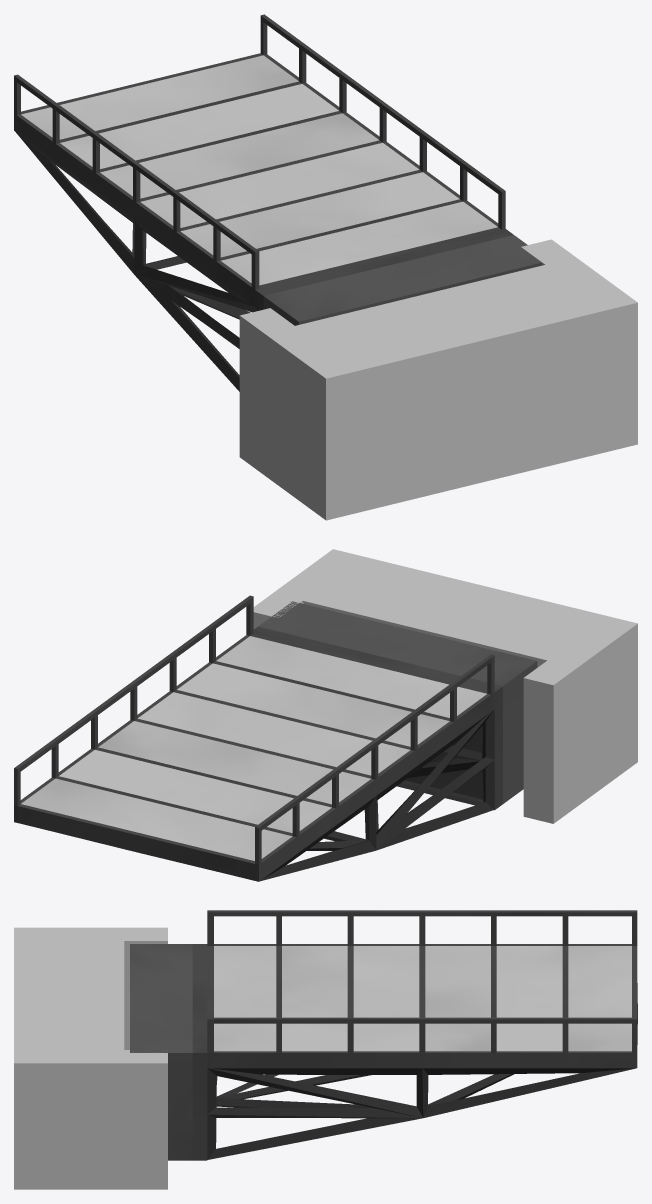
Rendered from SM_Bridge.fbx.
The picture shows the model from 3 angles, top to bottom: view 1: azimuth 30°, elevation 25°; view 2: azimuth 150°, elevation 25°; view 3: azimuth 270°, elevation 25°; orthographic projection. The views are drawn at different scales.
Parts seen in each view (by area): view 1: SM_Bridge, SM_BridgeStartEnd; view 2: SM_Bridge, SM_BridgeStartEnd; view 3: SM_Bridge, SM_BridgeStartEnd.
Boxes of the visible parts, left/top/right/bottom form: SM_Bridge: left=14, top=14, right=542, bottom=391; SM_BridgeStartEnd: left=239, top=239, right=637, bottom=520; SM_Bridge: left=14, top=595, right=537, bottom=881; SM_BridgeStartEnd: left=253, top=549, right=637, bottom=823; SM_Bridge: left=130, top=910, right=637, bottom=1160; SM_BridgeStartEnd: left=14, top=927, right=167, bottom=1189.
Bounding box in the file's own units: 10.21 × 5.62 × 19.87.
